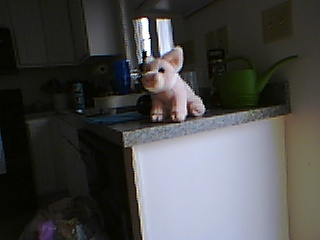piggy: (139, 44, 207, 124)
